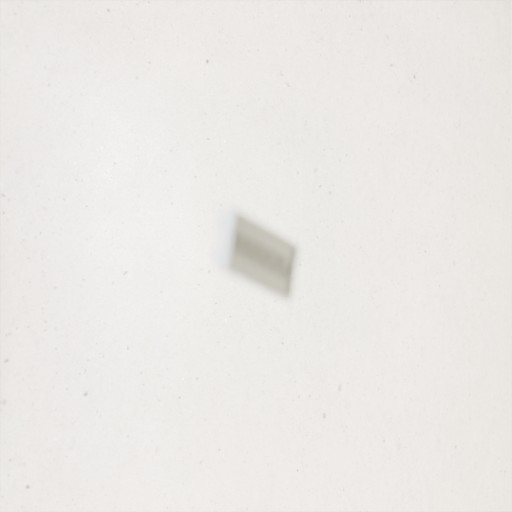lego: (212, 207, 300, 302)
